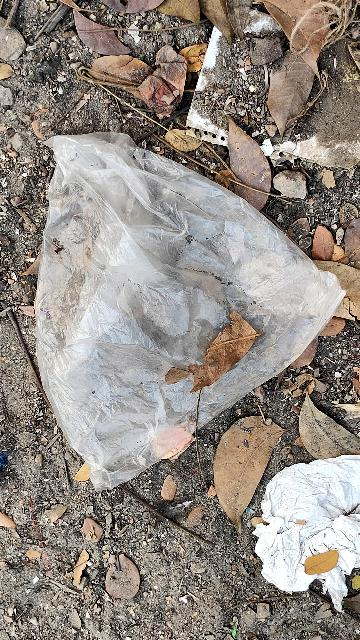polythene: (34, 123, 322, 464)
